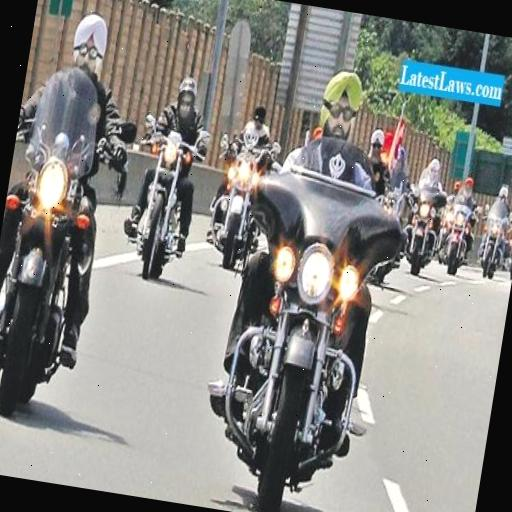helmet: (116, 50, 220, 292), (442, 164, 486, 286)
no helmet: (186, 38, 412, 502), (0, 0, 142, 465), (204, 80, 282, 269), (396, 144, 454, 278), (477, 179, 512, 277)
